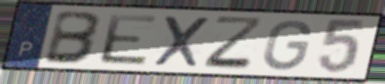5: (316, 18, 367, 77)
B: (41, 9, 105, 66)
E: (98, 12, 161, 68)
G: (261, 18, 314, 72)
X: (150, 13, 212, 69)
Z: (201, 15, 267, 72)
